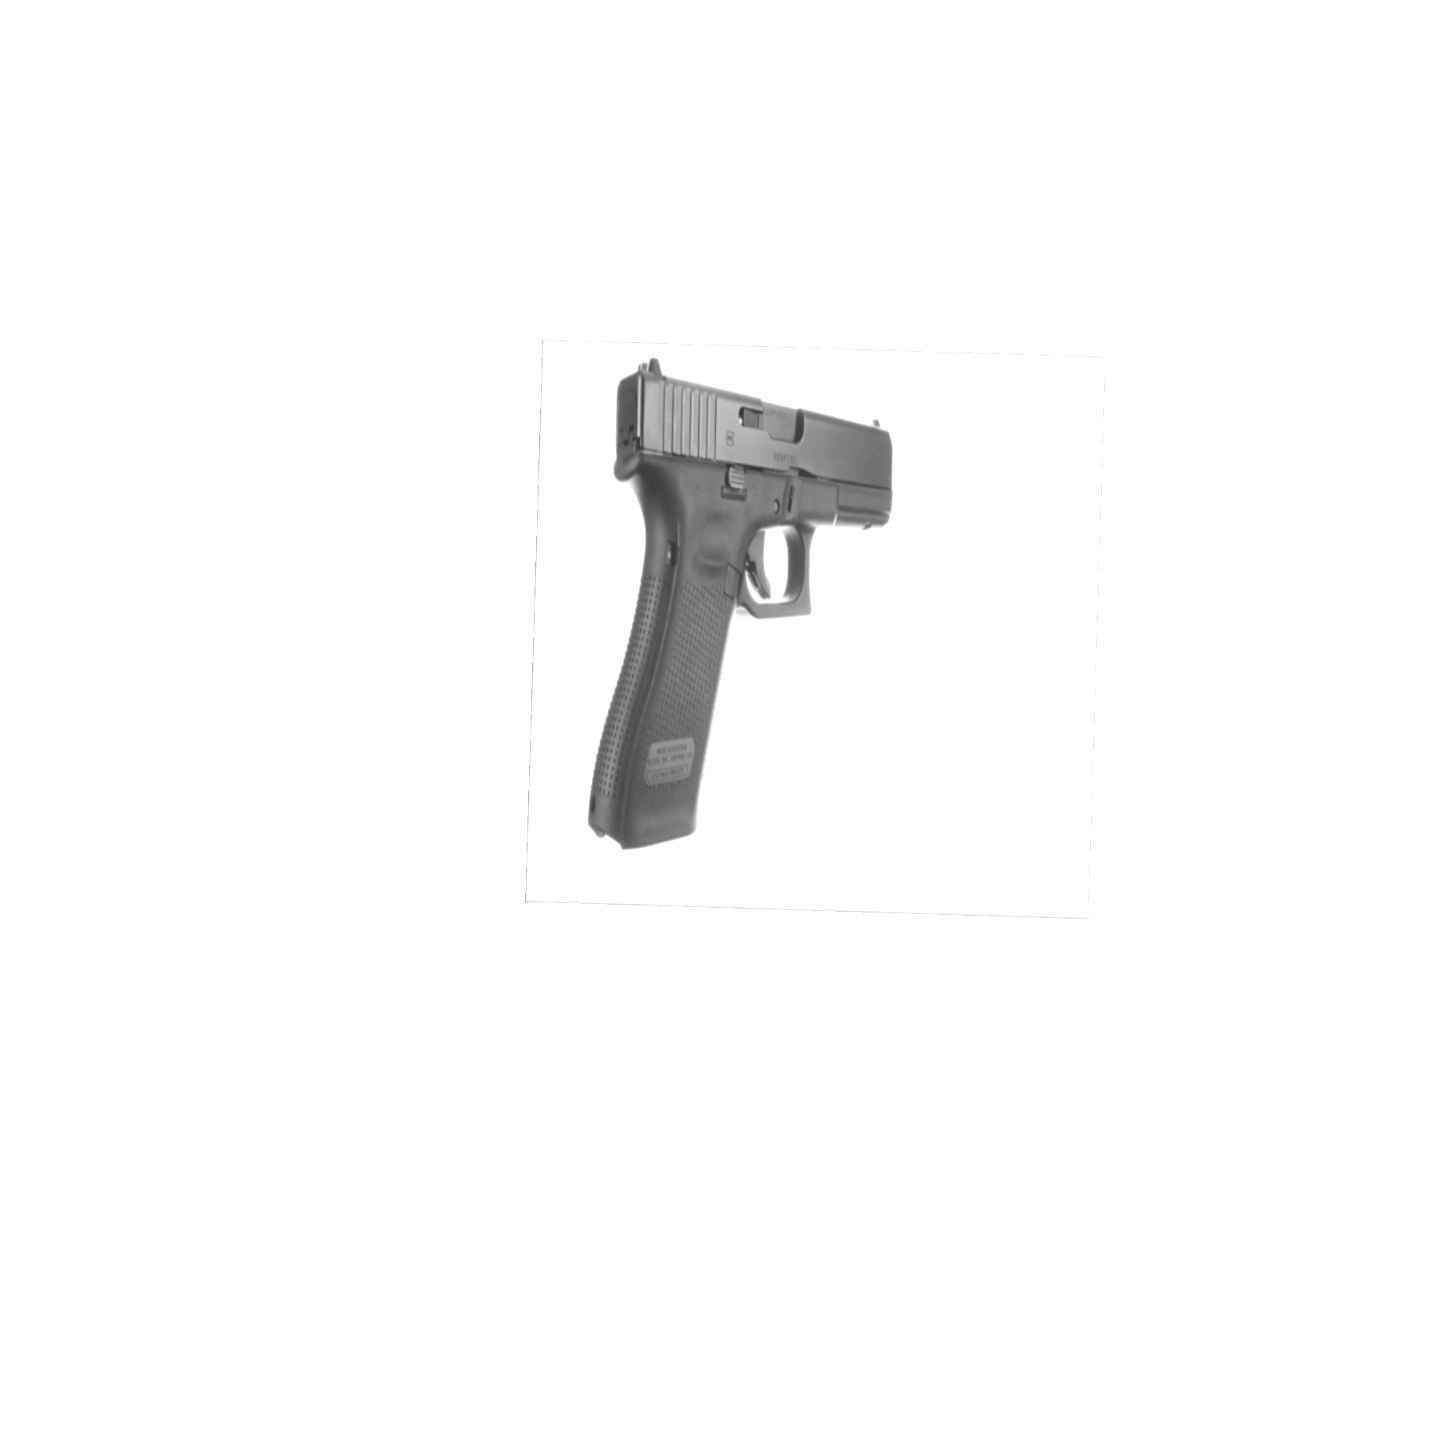gun: (589, 356, 892, 845)
